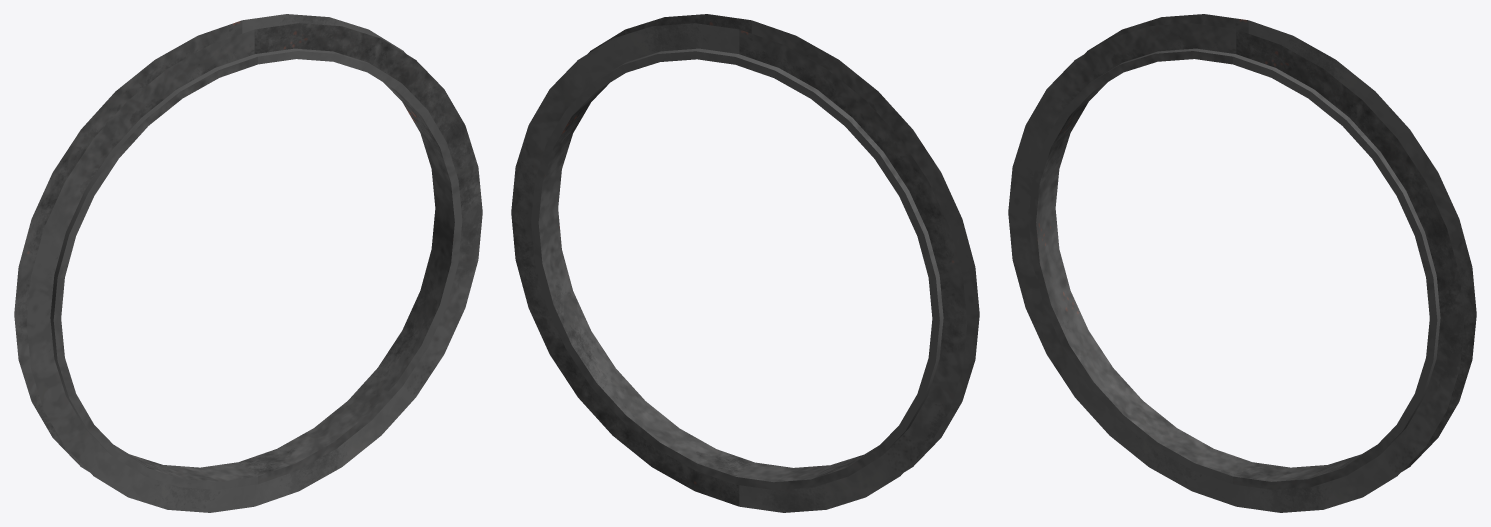
Rendered from obręcz.fbx.
3 renders of one model, left to right at view 1: azimuth 30°, elevation 25°; view 2: azimuth 150°, elevation 25°; view 3: azimuth 330°, elevation 25°, orthographic.
Visible parts, largest first — view 1: obręcz; view 2: obręcz; view 3: obręcz.
Part boxes in pixels (bbox=[...]): obręcz: bbox=[14, 14, 482, 512]; obręcz: bbox=[511, 14, 979, 512]; obręcz: bbox=[1008, 14, 1476, 512].
Bounding box in the file's own units: 674 × 674 × 50.
